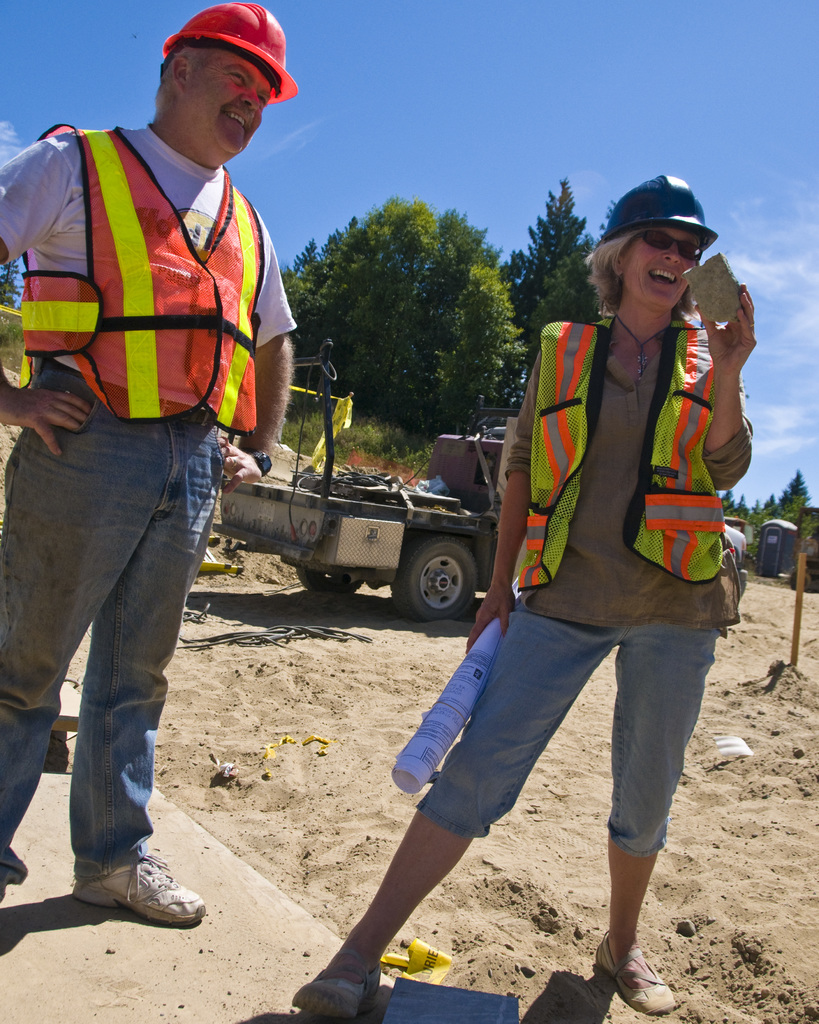Tree: (278, 192, 551, 420), (501, 180, 601, 413), (776, 465, 811, 525), (0, 257, 29, 311), (749, 495, 763, 546), (732, 490, 751, 521), (719, 488, 735, 518)
